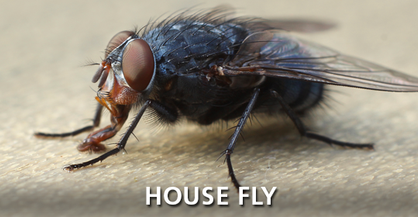green bottles fly: (21, 3, 418, 185)
